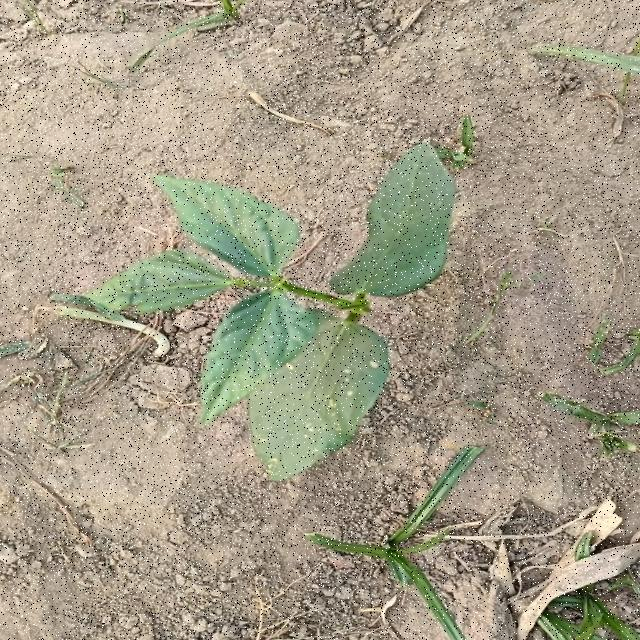plant: (90, 144, 455, 480)
